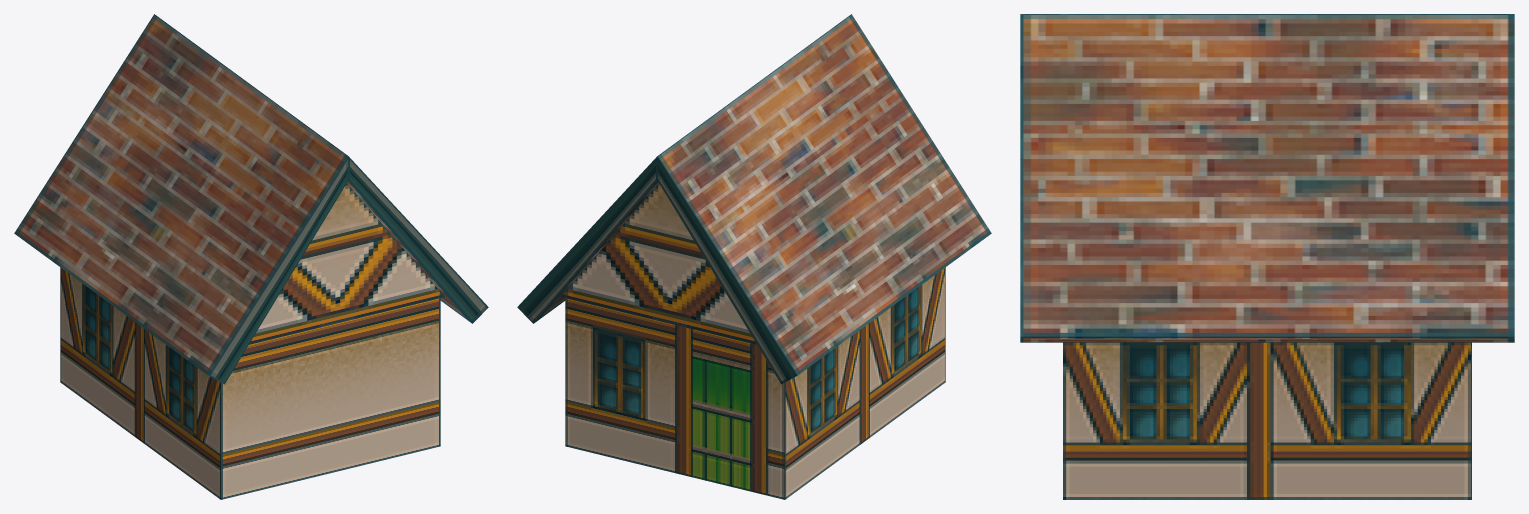
Rendered from house01.fbx.
3 views of the same model, side by side, from view 1: azimuth 30°, elevation 25°; view 2: azimuth 150°, elevation 25°; view 3: azimuth 270°, elevation 25° (orthographic). The views are drawn at different scales.
Parts seen in each view (by area): view 1: house01; view 2: house01; view 3: house01.
Part boxes in pixels (bbox=[...]): house01: bbox=[14, 14, 488, 499]; house01: bbox=[517, 14, 991, 499]; house01: bbox=[1020, 14, 1514, 499].
Bounding box in the file's own units: 380 × 426 × 456.
